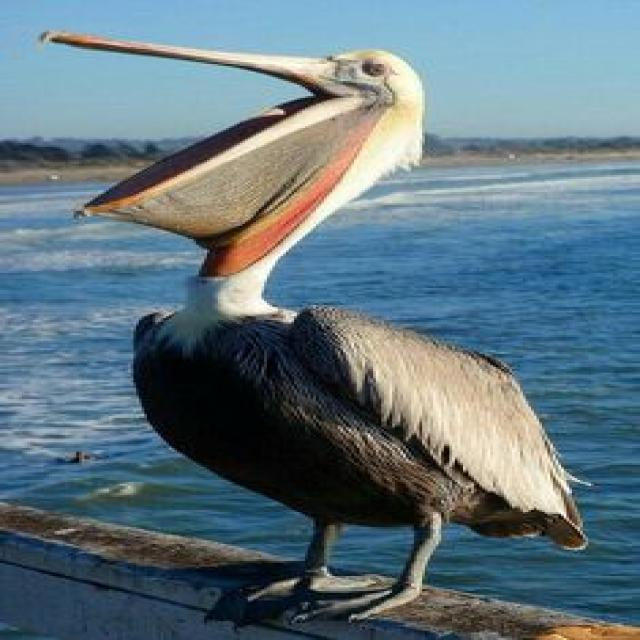Carnivorous: (41, 32, 586, 625)
